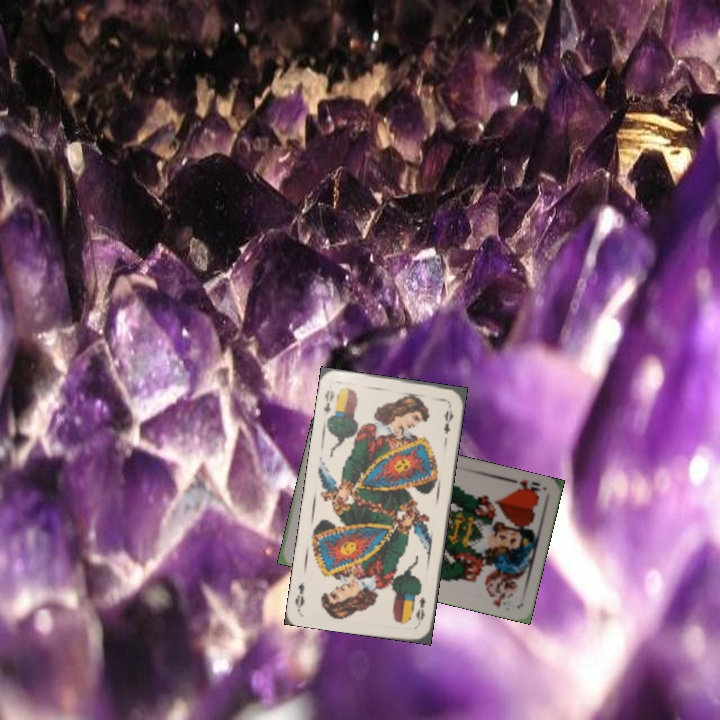EO: (319, 386, 337, 418), (412, 593, 428, 623)
HO: (506, 475, 546, 498)
